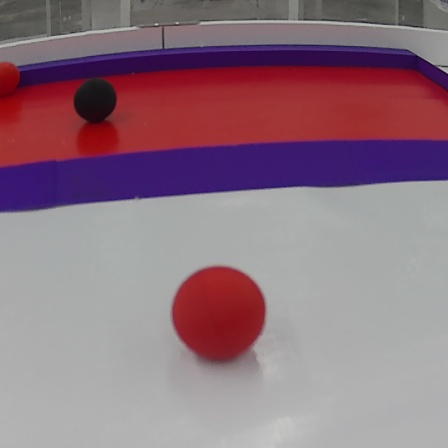black: (68, 73, 120, 123)
red: (168, 262, 271, 371)
red_aim: (2, 43, 448, 217)
